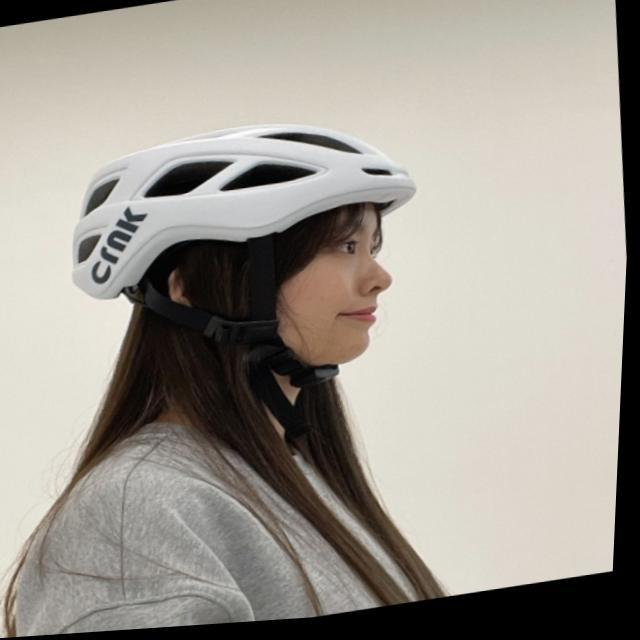Helmet: (68, 121, 417, 386)
